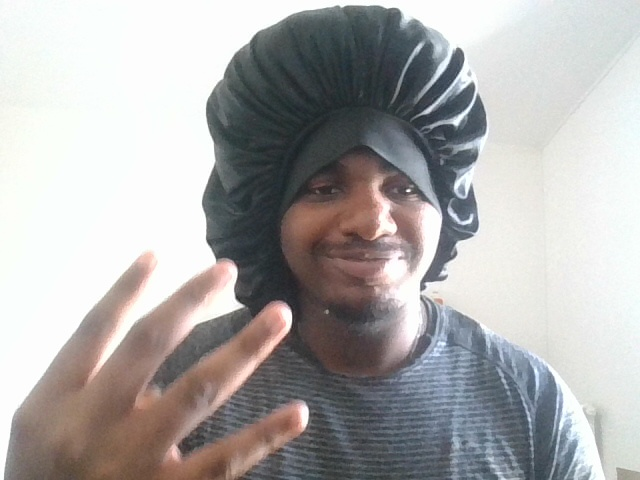I am Better Than Yu: (25, 236, 340, 475)
